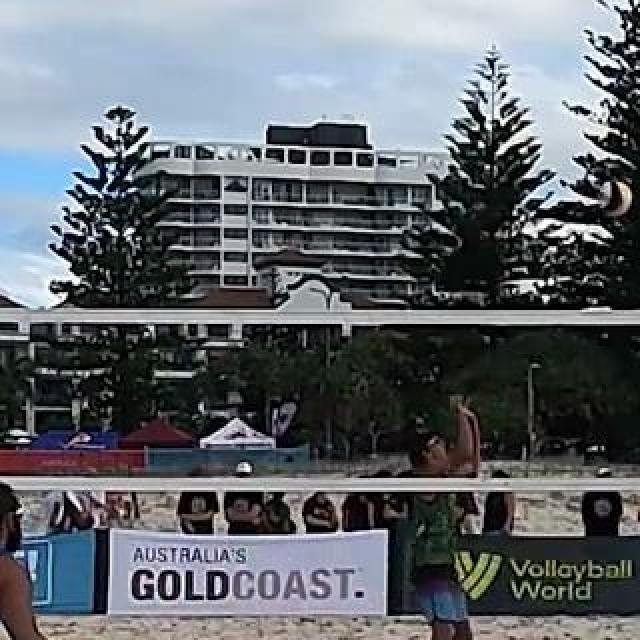volleyball: (599, 181, 631, 217)
